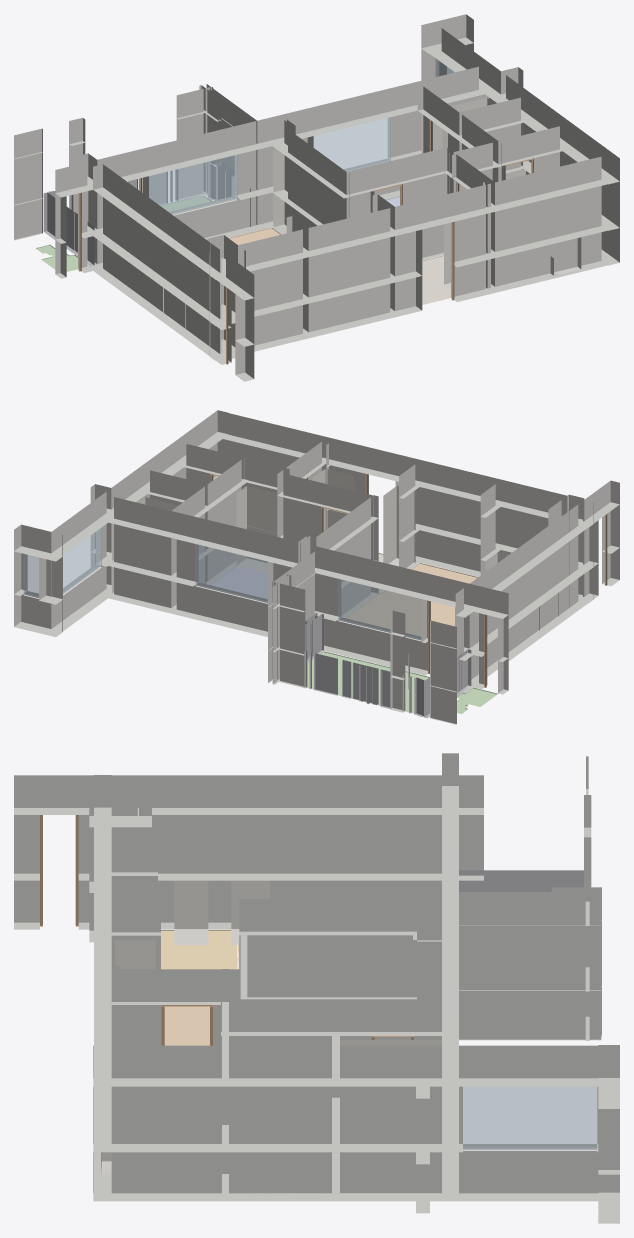
3 renders of one model, top to bottom at view 1: azimuth 30°, elevation 25°; view 2: azimuth 150°, elevation 25°; view 3: azimuth 270°, elevation 25°, orthographic. The views are drawn at different scales.
Visible parts, largest first — view 1: walls, window_3, railings, window_0, floor_2_Entry, furniture_0_closet, furniture_1_closet; view 2: walls, railings, window_3, window_0, floor_0_Living_Room, furniture_2_closet, window_8, furniture_3_closet, floor_7_Outdoor, floor_3_Bed_Room, furniture_4_closet, window_11 (+2 smaller); view 3: walls, window_8, railings, floor_1_Kitchen, furniture_8_appliance, floor_0_Living_Room, furniture_3_closet, furniture_5_appliance, furniture_1_closet, door_10.
Boxes of the visible parts, x1,y1,x2,y2 form: walls: [14, 14, 619, 381]; window_3: [147, 151, 237, 214]; railings: [43, 161, 250, 266]; window_0: [310, 114, 390, 171]; floor_2_Entry: [422, 255, 450, 304]; furniture_0_closet: [273, 149, 285, 230]; furniture_1_closet: [421, 97, 522, 169]; walls: [14, 410, 619, 724]; railings: [304, 613, 471, 718]; window_3: [338, 576, 421, 639]; window_0: [195, 544, 267, 601]; floor_0_Living_Room: [346, 563, 477, 636]; furniture_2_closet: [236, 486, 277, 572]; window_8: [59, 527, 101, 593]; furniture_3_closet: [383, 486, 415, 568]; floor_7_Outdoor: [307, 651, 429, 713]; floor_3_Bed_Room: [211, 566, 267, 598]; furniture_4_closet: [312, 469, 354, 531]; window_11: [23, 554, 38, 597]; walls: [14, 753, 619, 1223]; window_8: [463, 1086, 597, 1148]; railings: [459, 870, 583, 891]; floor_1_Kitchen: [161, 930, 237, 969]; furniture_8_appliance: [174, 880, 208, 944]; floor_0_Living_Room: [164, 945, 239, 1045]; furniture_3_closet: [115, 940, 155, 969]; furniture_5_appliance: [231, 880, 269, 944]; furniture_1_closet: [340, 1040, 441, 1194]; door_10: [40, 815, 78, 926].
Bounding box in the file's own units: 12.67 × 2.72 × 10.04.
